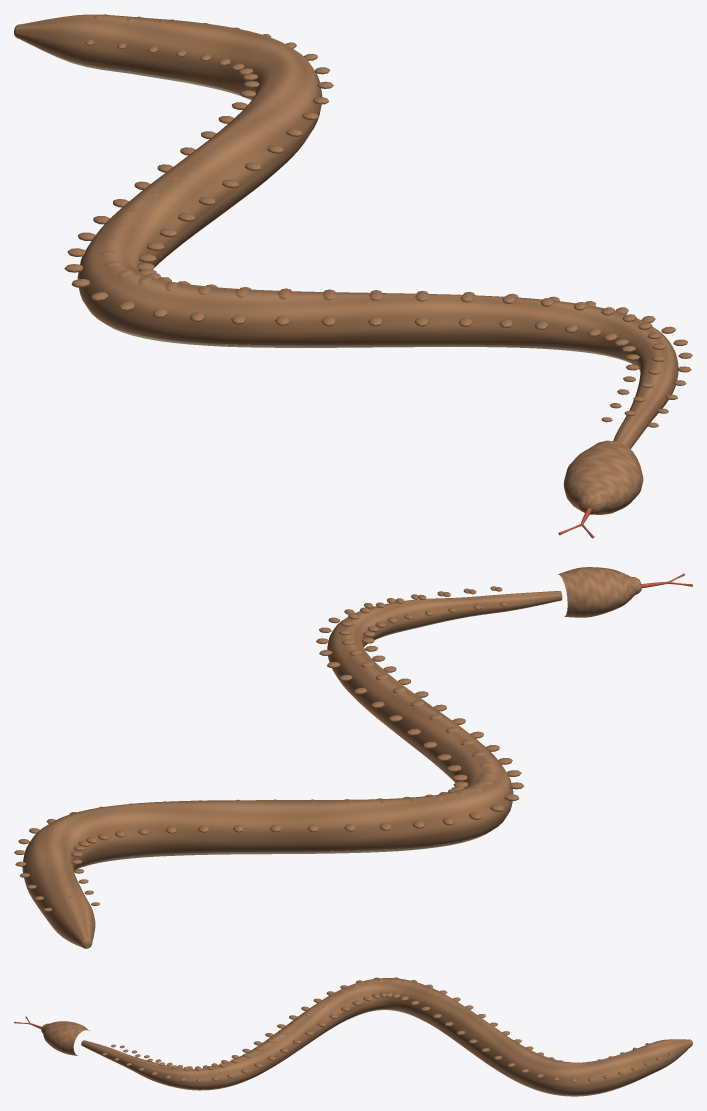
The model's file is birds-and-reptiles-hd-corn-snake-01b1b611__28100.glb.
The picture shows the model from 3 angles, top to bottom: view 1: azimuth 30°, elevation 25°; view 2: azimuth 150°, elevation 25°; view 3: azimuth 270°, elevation 25°; orthographic projection. The views are drawn at different scales.
Visible parts, largest first — view 1: corn-snake; view 2: corn-snake; view 3: corn-snake.
Boxes of the visible parts, x1=… form: corn-snake: x1=14, y1=14, x2=692, y2=538; corn-snake: x1=14, y1=567, x2=692, y2=948; corn-snake: x1=14, y1=977, x2=692, y2=1096.
Size of the model in its own units: 0.5105 by 0.071 by 1.4.
5 materials, 3 textured.
